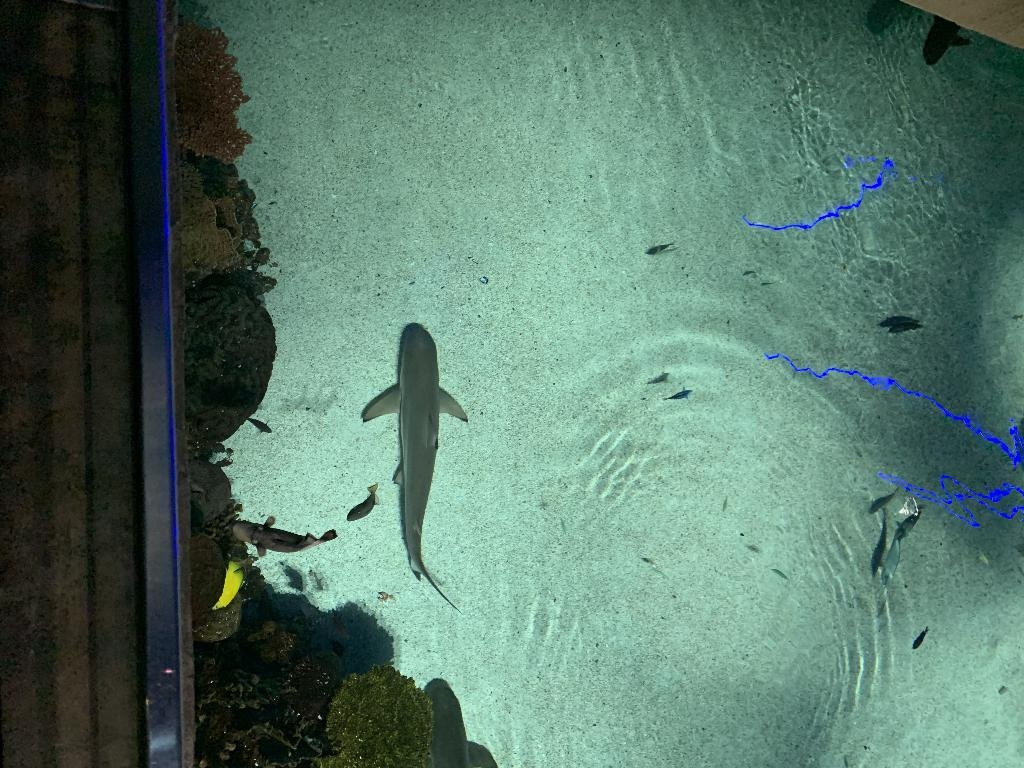fish: (230, 513, 338, 559), (344, 481, 382, 524), (893, 502, 927, 542), (881, 538, 903, 586), (868, 486, 900, 514), (885, 320, 925, 336), (244, 416, 274, 436), (910, 624, 932, 650), (662, 386, 694, 403), (654, 244, 682, 258), (772, 568, 790, 580), (740, 268, 756, 278), (723, 494, 729, 512)
shark: (360, 320, 472, 618)
